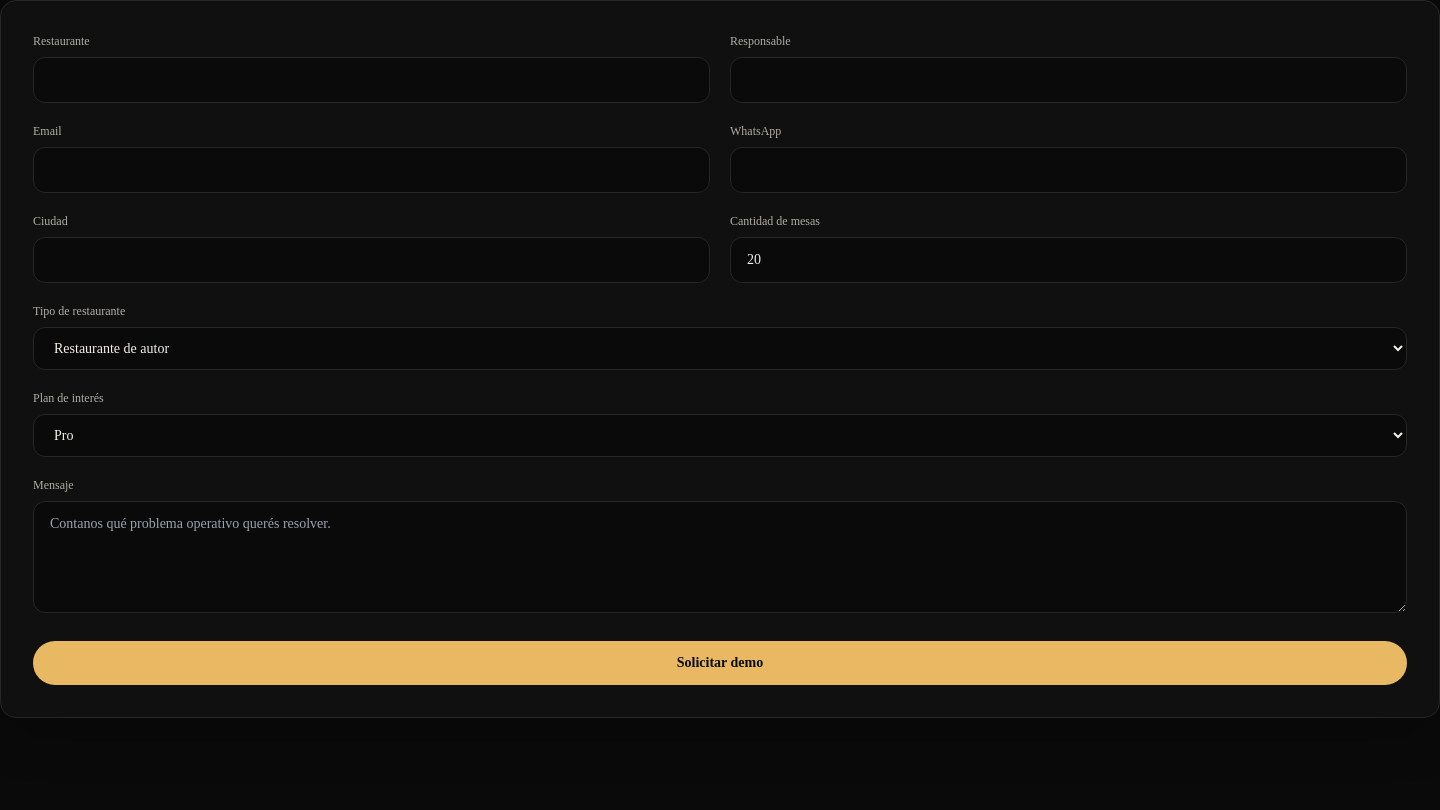
Test: DemoLeadForm › muestra mensaje de error cuando la validación falla
Click the button "Solicitar demo".
click(720, 663)  # box [33,641,1407,685]
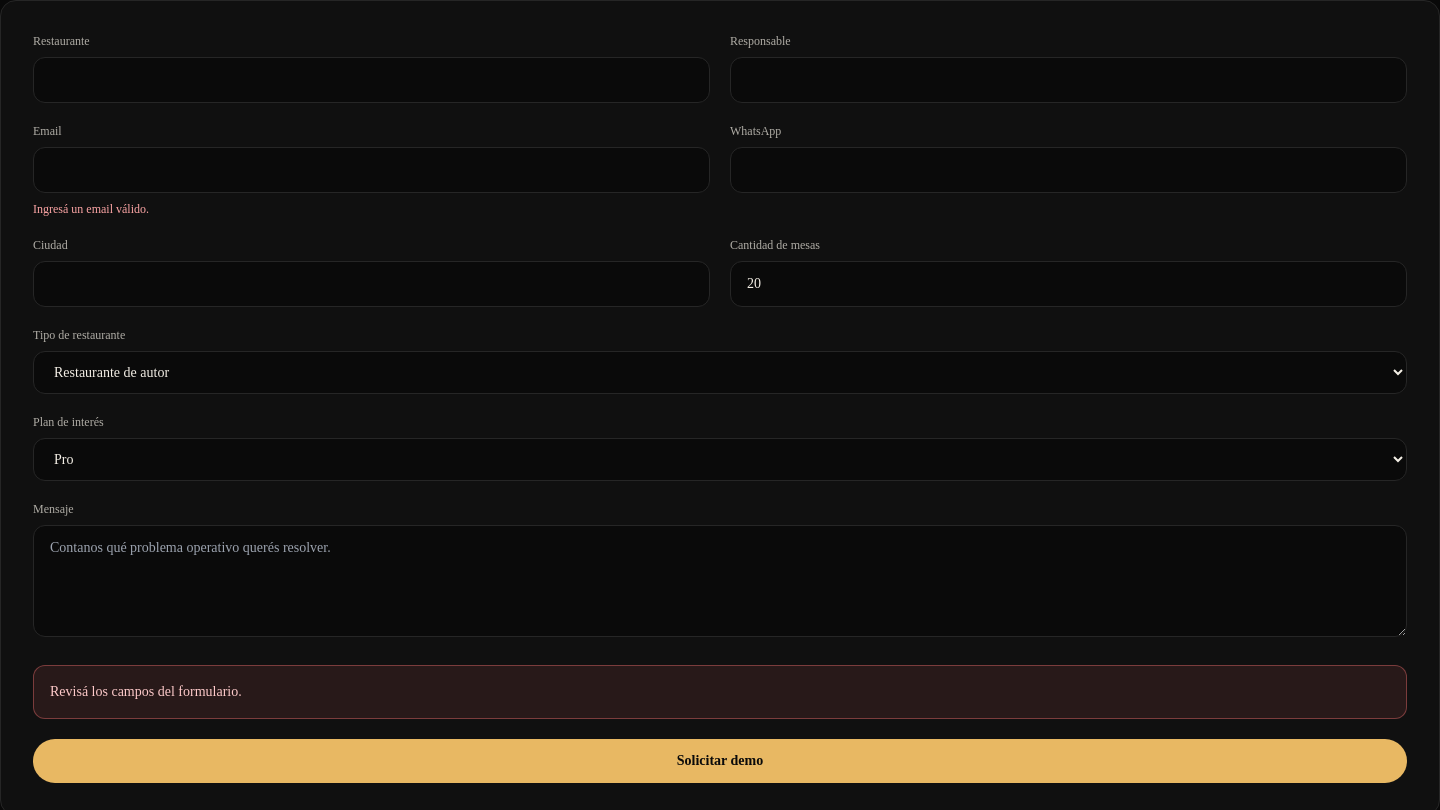
Expected: the text "Revisá los campos del formulario." is shown, [33,665,1407,719]
